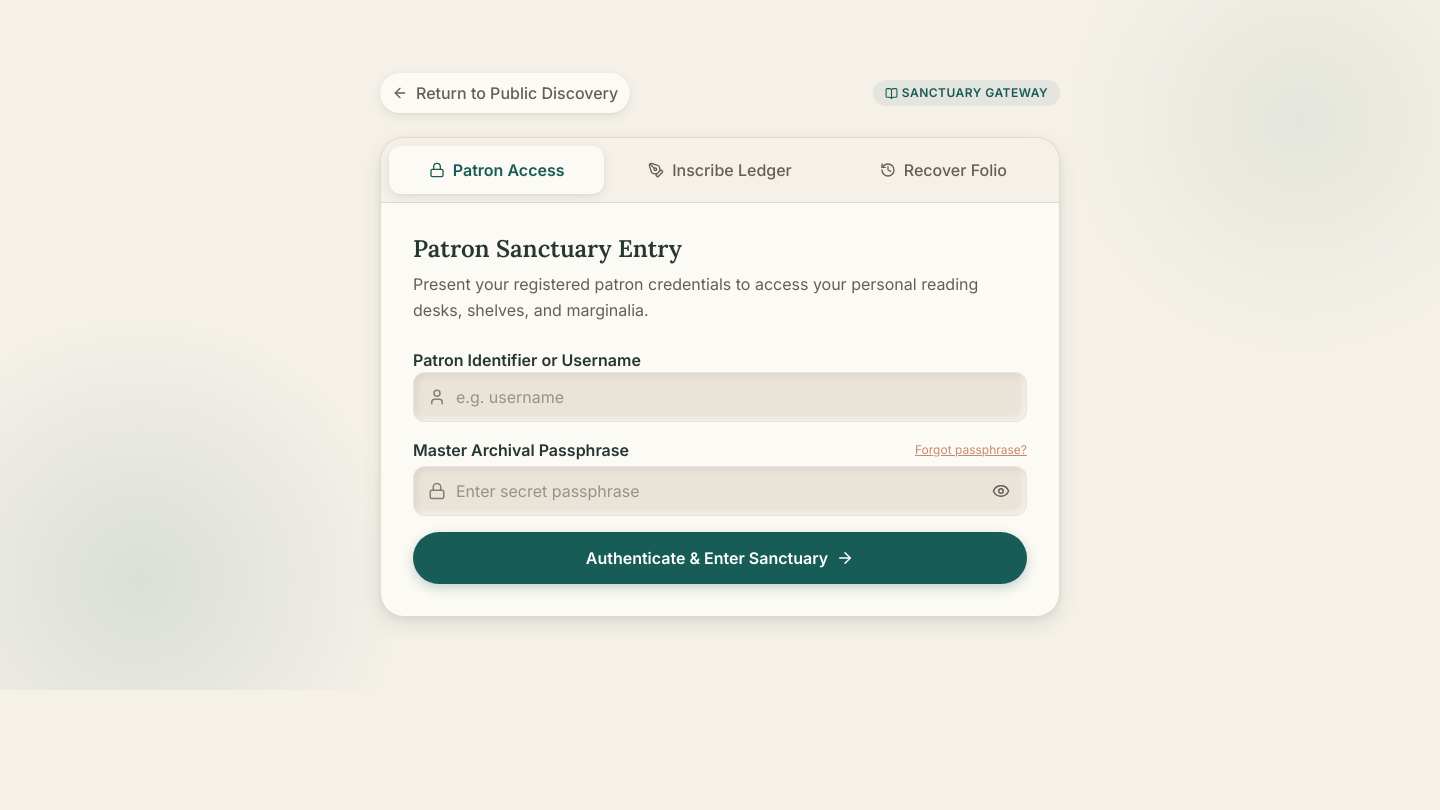
Test: AuthPage — Patron Authentication Hub › 5. displays error banner when authentication fails
Type "unknown_patron" into the field labelled "Patron Identifier or Username". click: [720, 397]
box: [414, 373, 1026, 421]
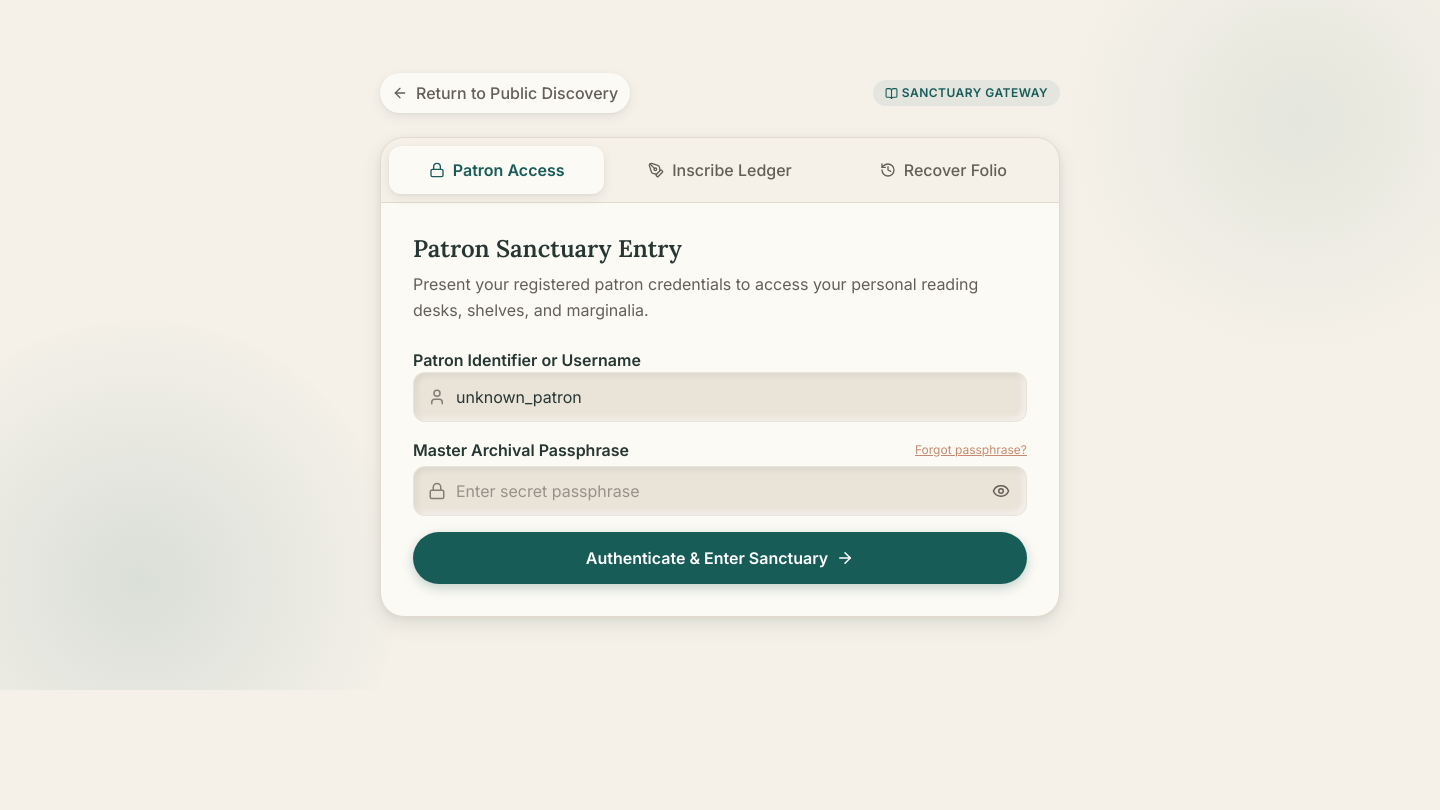
Type "wrong_key" into the password field labelled "Master Archival Passphrase". click: [720, 491]
box: [414, 467, 1026, 515]
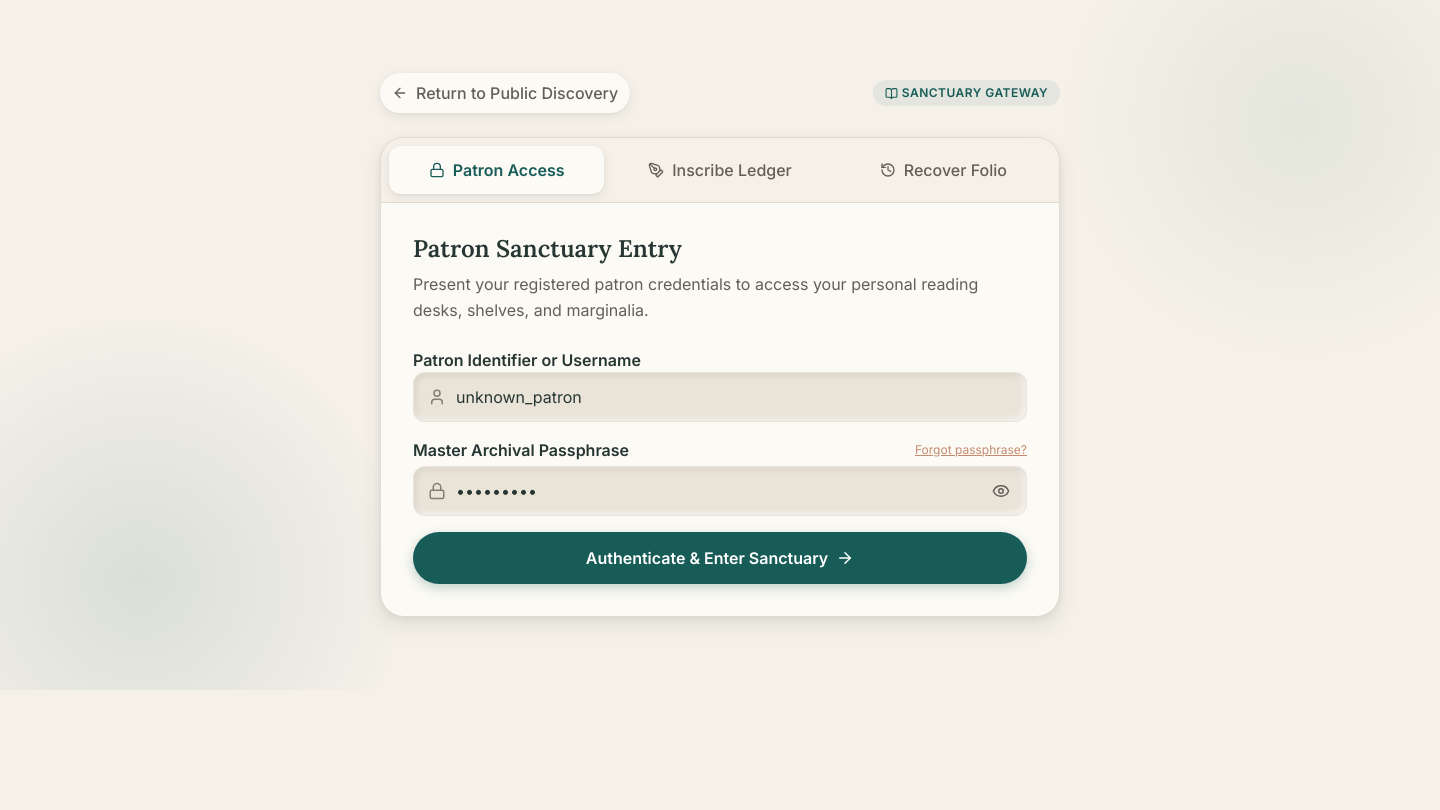
Submit the form named "Authenticate & Enter Sanctuary", box [413, 348, 1027, 584]
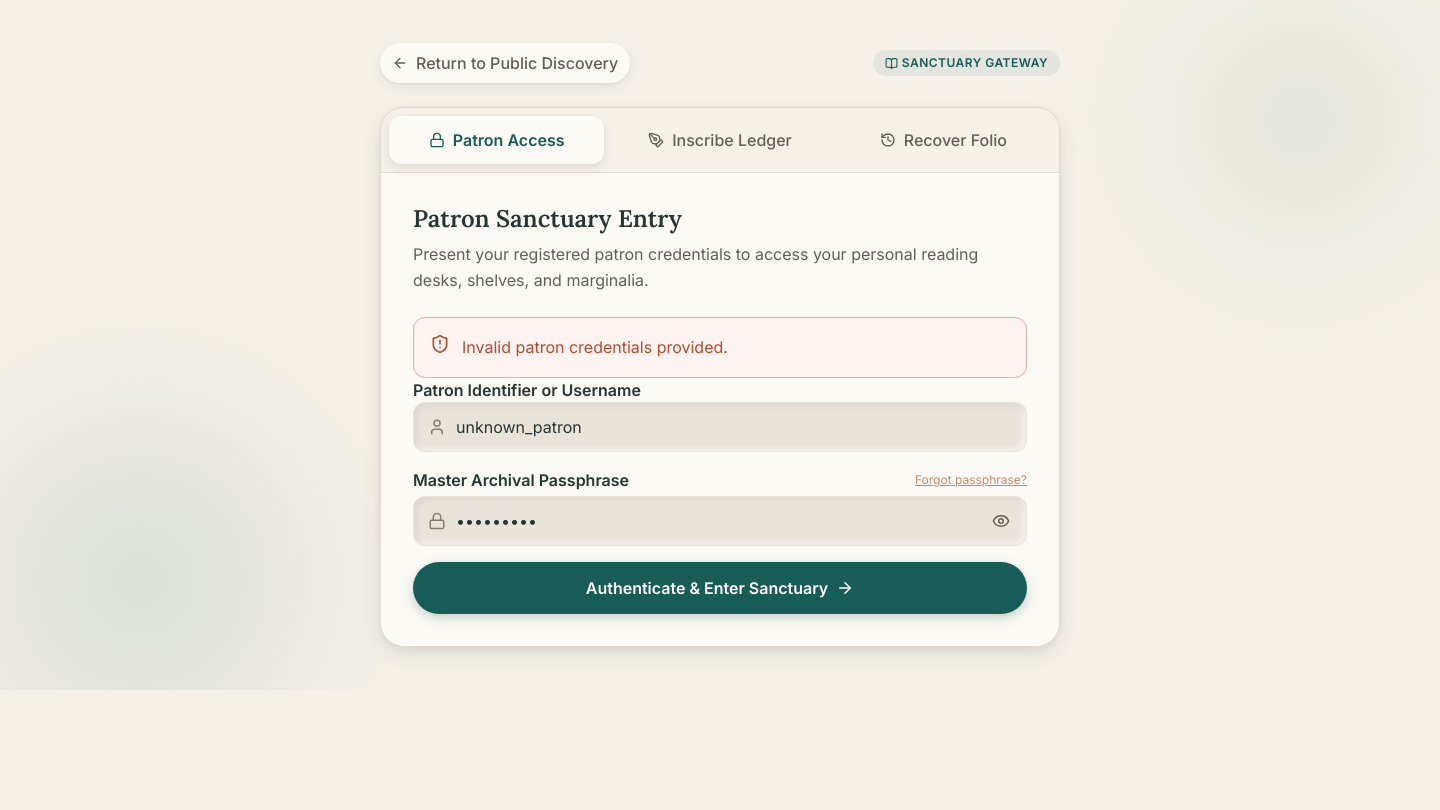
Expected: the text "Invalid patron credentials provided." is shown, [462, 334, 728, 361]
